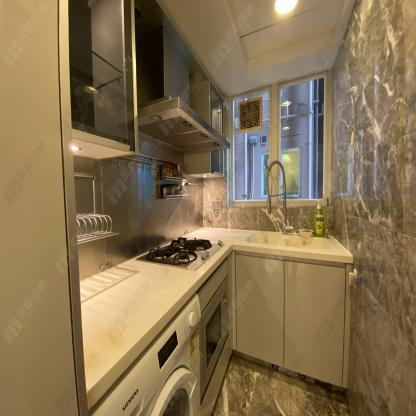Exhaust Fan: (238, 96, 263, 134)
Exhaust Hood: (137, 95, 231, 154)
Faucet: (264, 157, 291, 233), (324, 195, 332, 239)
Microwave: (201, 273, 229, 405)
Sink: (232, 230, 349, 254)
Stove: (123, 234, 234, 279)
Washing Machine: (88, 295, 201, 416)
